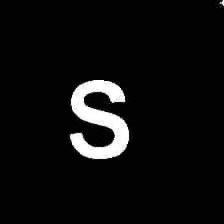LTR_S: (64, 72, 132, 163)
